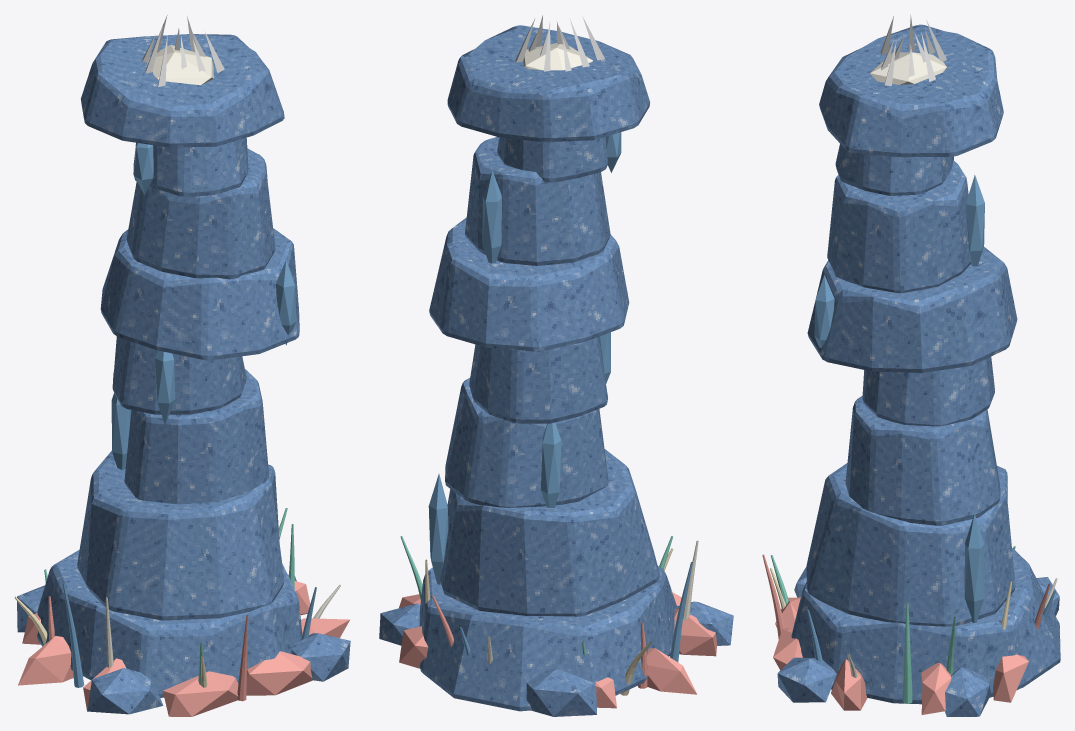
Rendered from coast_stack.glb.
3 renders of one model, left to right at view 1: azimuth 30°, elevation 25°; view 2: azimuth 150°, elevation 25°; view 3: azimuth 270°, elevation 25°, orthographic.
Visible parts, largest first — view 1: Stack, WeedBand, Droppings, Strand, Tuft; view 2: Stack, Droppings, WeedBand, Strand, Tuft; view 3: Stack, WeedBand, Droppings, Strand, Tuft.
Part boxes in pixels (box(x1,y1,x2,y2)): Stack: box(17, 34, 350, 714); WeedBand: box(18, 581, 349, 716); Droppings: box(111, 142, 296, 469); Strand: box(14, 508, 340, 701); Tuft: box(142, 15, 224, 87); Stack: box(379, 25, 733, 716); Droppings: box(428, 132, 621, 584); WeedBand: box(399, 592, 716, 708); Strand: box(400, 536, 698, 695); Tuft: box(515, 15, 604, 71); Stack: box(777, 24, 1060, 716); WeedBand: box(773, 597, 1028, 714); Droppings: box(814, 175, 984, 622); Strand: box(762, 546, 1057, 703); Tuft: box(870, 14, 946, 86).
Bounding box in the file's own units: 4.75 × 9.76 × 4.17.
20 materials, 1 textured.
